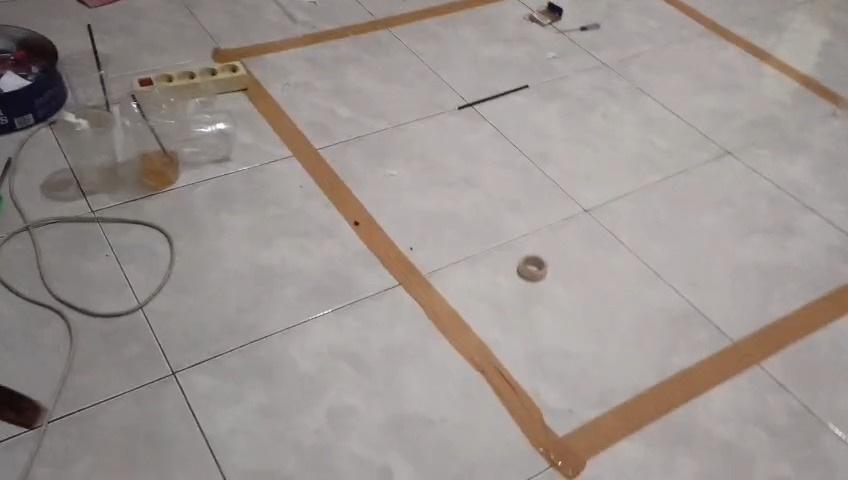floor marking: (246, 72, 847, 477), (662, 0, 847, 112), (212, 0, 500, 62)
